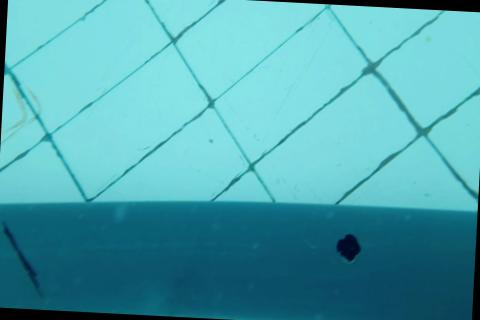kebocoran: (335, 231, 361, 264)
keretakan: (0, 220, 47, 297)
